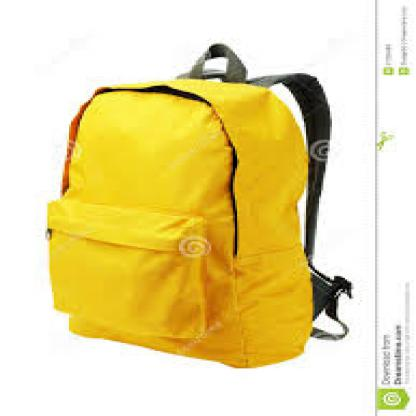morral: (21, 35, 368, 370)
